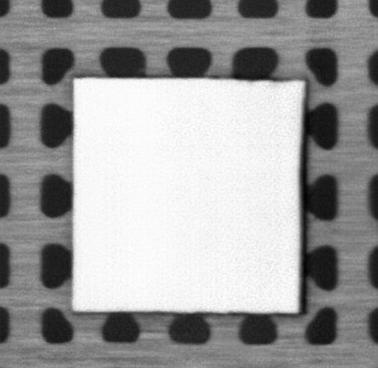DIE_BROKEN: (296, 89, 308, 317)
